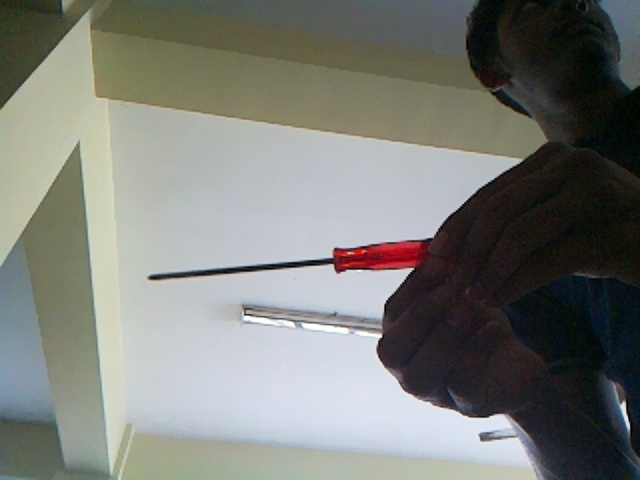redskrew: (147, 239, 431, 282)
